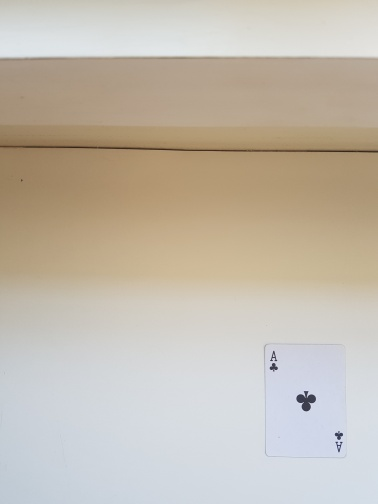ace: (262, 343, 348, 459)
